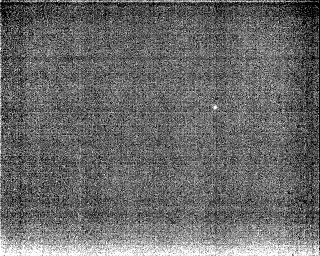BIRD: (211, 102, 219, 112)
